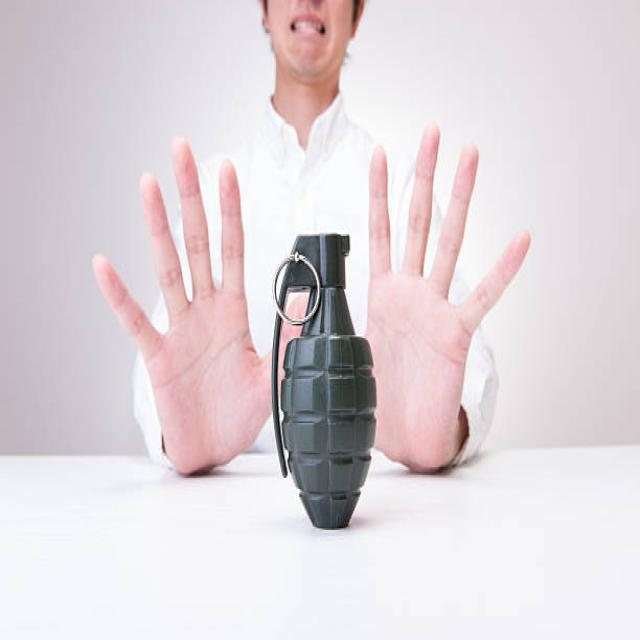grenade: (263, 224, 384, 539)
